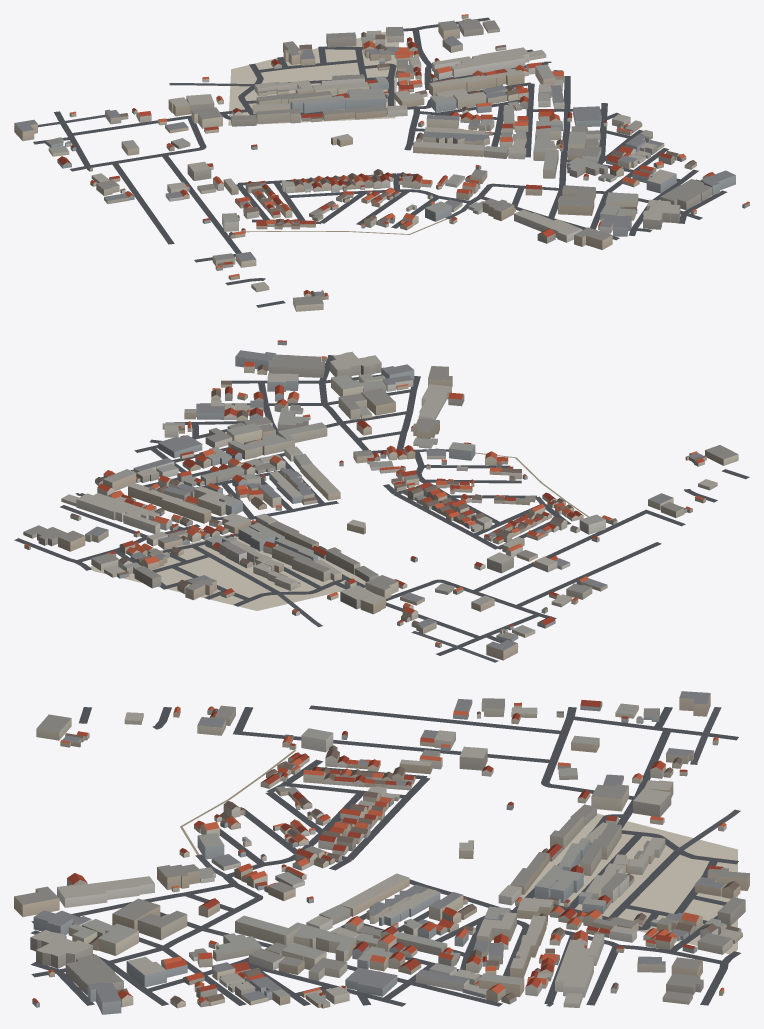
The picture shows the model from 3 angles, top to bottom: view 1: azimuth 30°, elevation 25°; view 2: azimuth 150°, elevation 25°; view 3: azimuth 270°, elevation 25°; orthographic projection. The views are drawn at different scales.
Visible parts, largest first — view 1: buildings_roofs, buildings_walls, roads, landuse; view 2: buildings_roofs, buildings_walls, roads, landuse; view 3: buildings_roofs, buildings_walls, roads, landuse.
Boxes of the visible parts, <box> form: buildings_roofs: <box>15,14,749,305</box>; buildings_walls: <box>14,15,749,311</box>; roads: <box>33,17,727,307</box>; landuse: <box>228,31,398,125</box>; buildings_roofs: <box>24,340,737,650</box>; buildings_walls: <box>23,341,738,660</box>; roads: <box>14,355,749,662</box>; landuse: <box>89,532,365,610</box>; buildings_roofs: <box>14,691,749,1004</box>; buildings_walls: <box>14,694,749,1014</box>; roads: <box>30,705,740,1006</box>; landuse: <box>520,813,737,954</box>.
Size of the model in its own units: 523 by 9.65 by 522.
